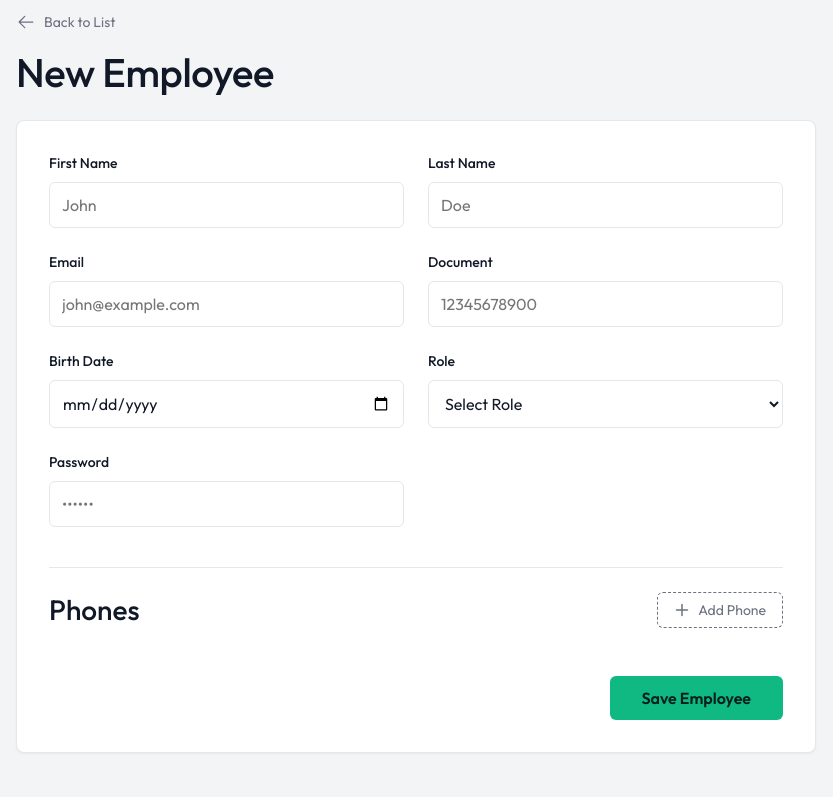
Test case: EmployeeForm › Validation › requires password for new employees
Type "Test" into the field with placeholder "John".
click(226, 205); type("Test")  # box [49,182,404,228]
Type "User" into the field with placeholder "Doe".
click(606, 205); type("User")  # box [428,182,783,228]
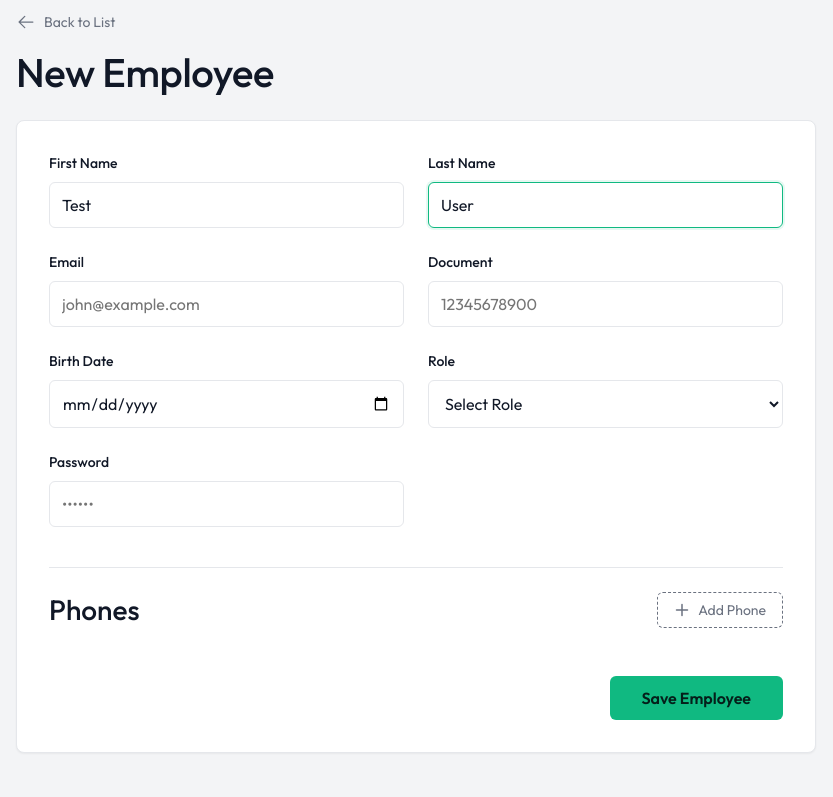
Type "test@example.com" into the field with placeholder "john@example.com".
click(226, 304); type("test@example.com")  # box [49,281,404,327]
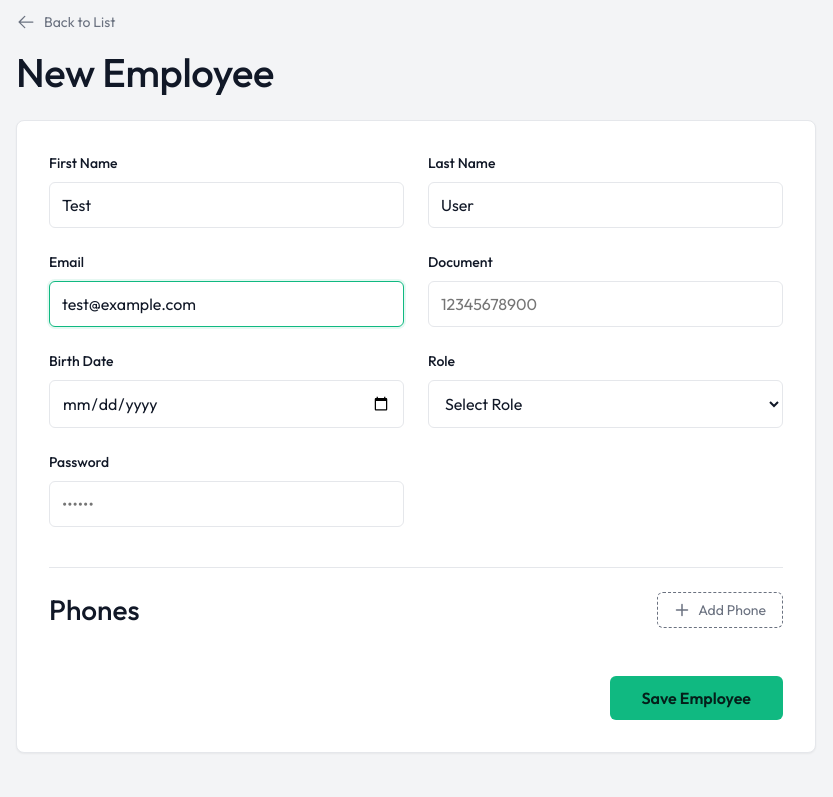
Type "123456789" into the field with placeholder "12345678900".
click(606, 304); type("123456789")  # box [428,281,783,327]
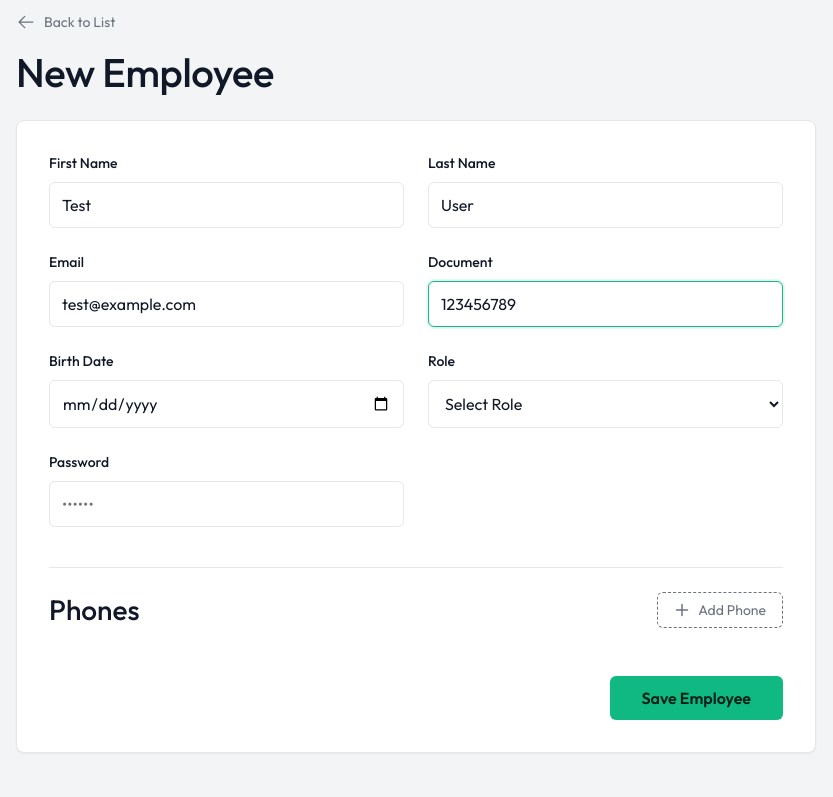
Type "1990-01-01" into the date field.
click(226, 404); type("1990-01-01")  # box [49,380,404,428]
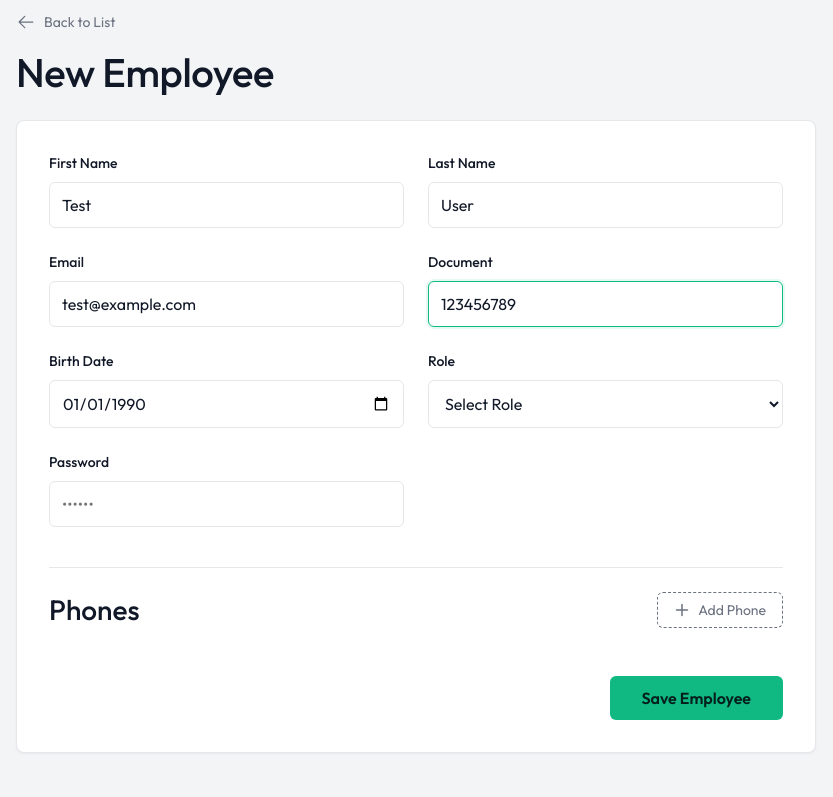
Select "Developer" in the dropdown at (606, 404), box [428,380,783,428]
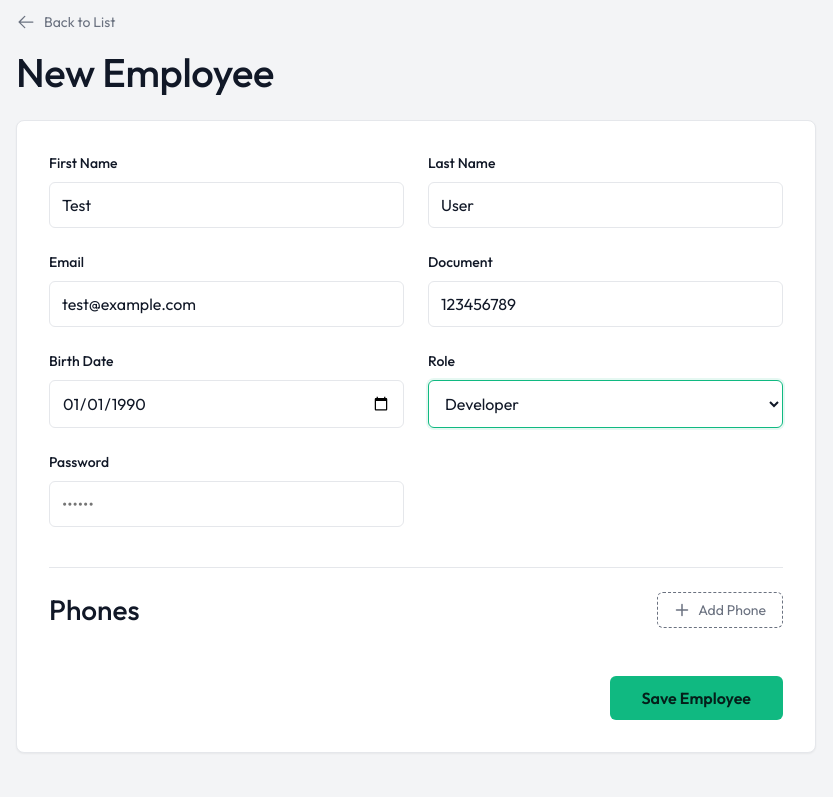
Click the button "Save Employee".
click(696, 698)  # box [610,676,783,720]
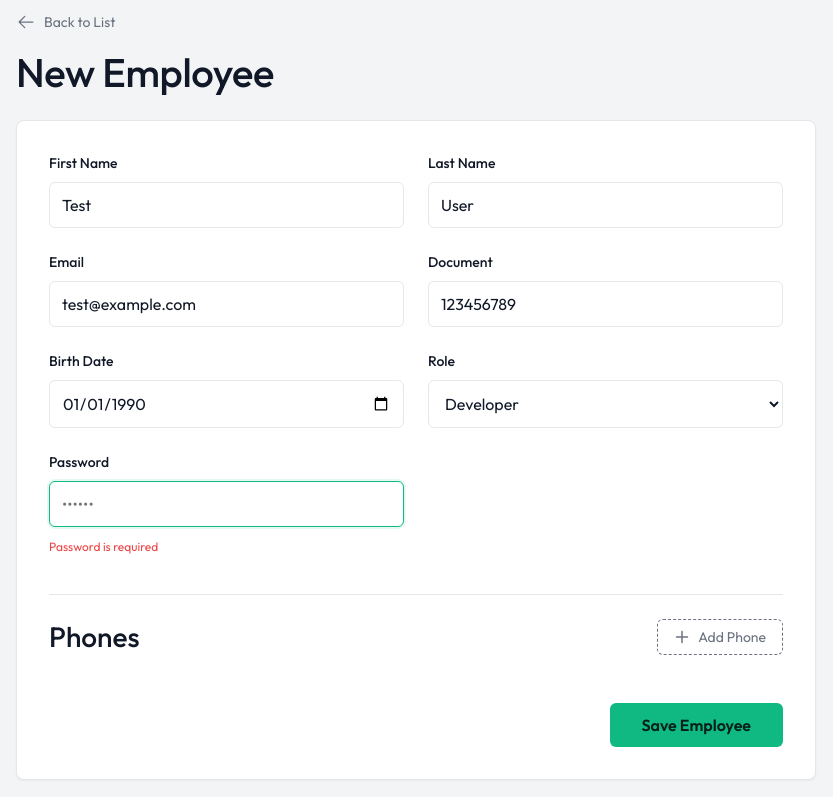
Check: the text "Password is required" is shown, box [49,539,158,554]
